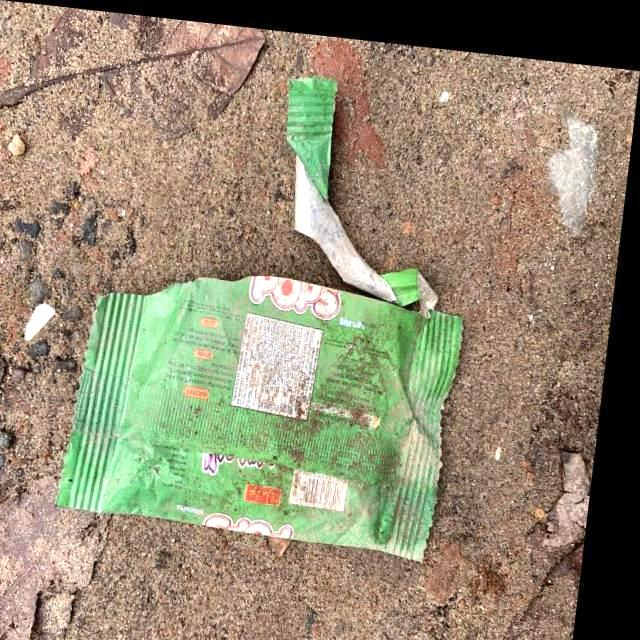packet: (82, 264, 470, 554)
